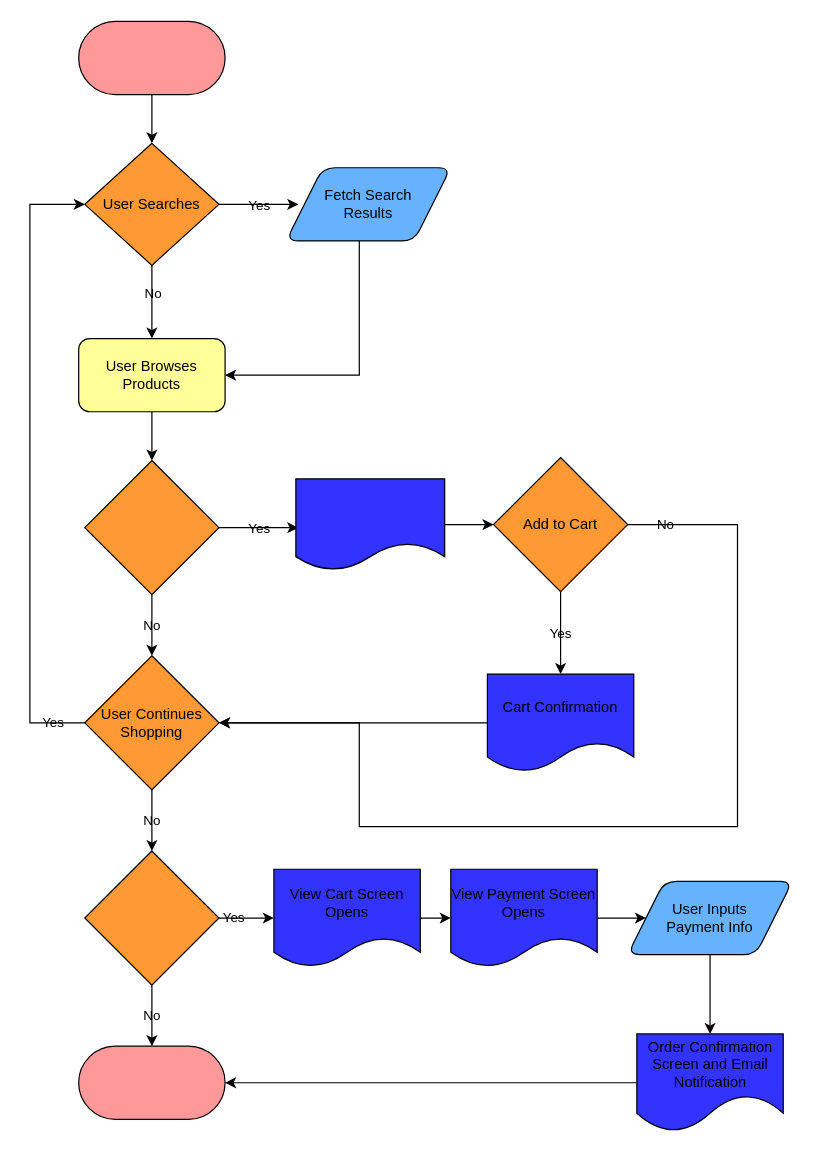
Some shapes in this 814 by 1153 pixel diagram are drawn without their labels. Each missing label, with the centre of its shape:
Product Page Opens: point (370, 524)
Start: point (151, 57)
User Checks Out: point (151, 917)
User Leaves Website: point (151, 1082)
User Views A Specific Product: point (151, 527)
